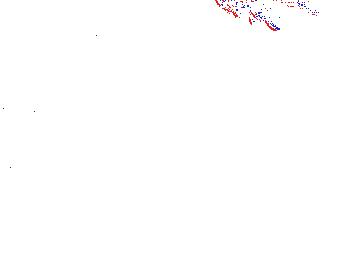redtail glassfish: (212, 1, 322, 24)
